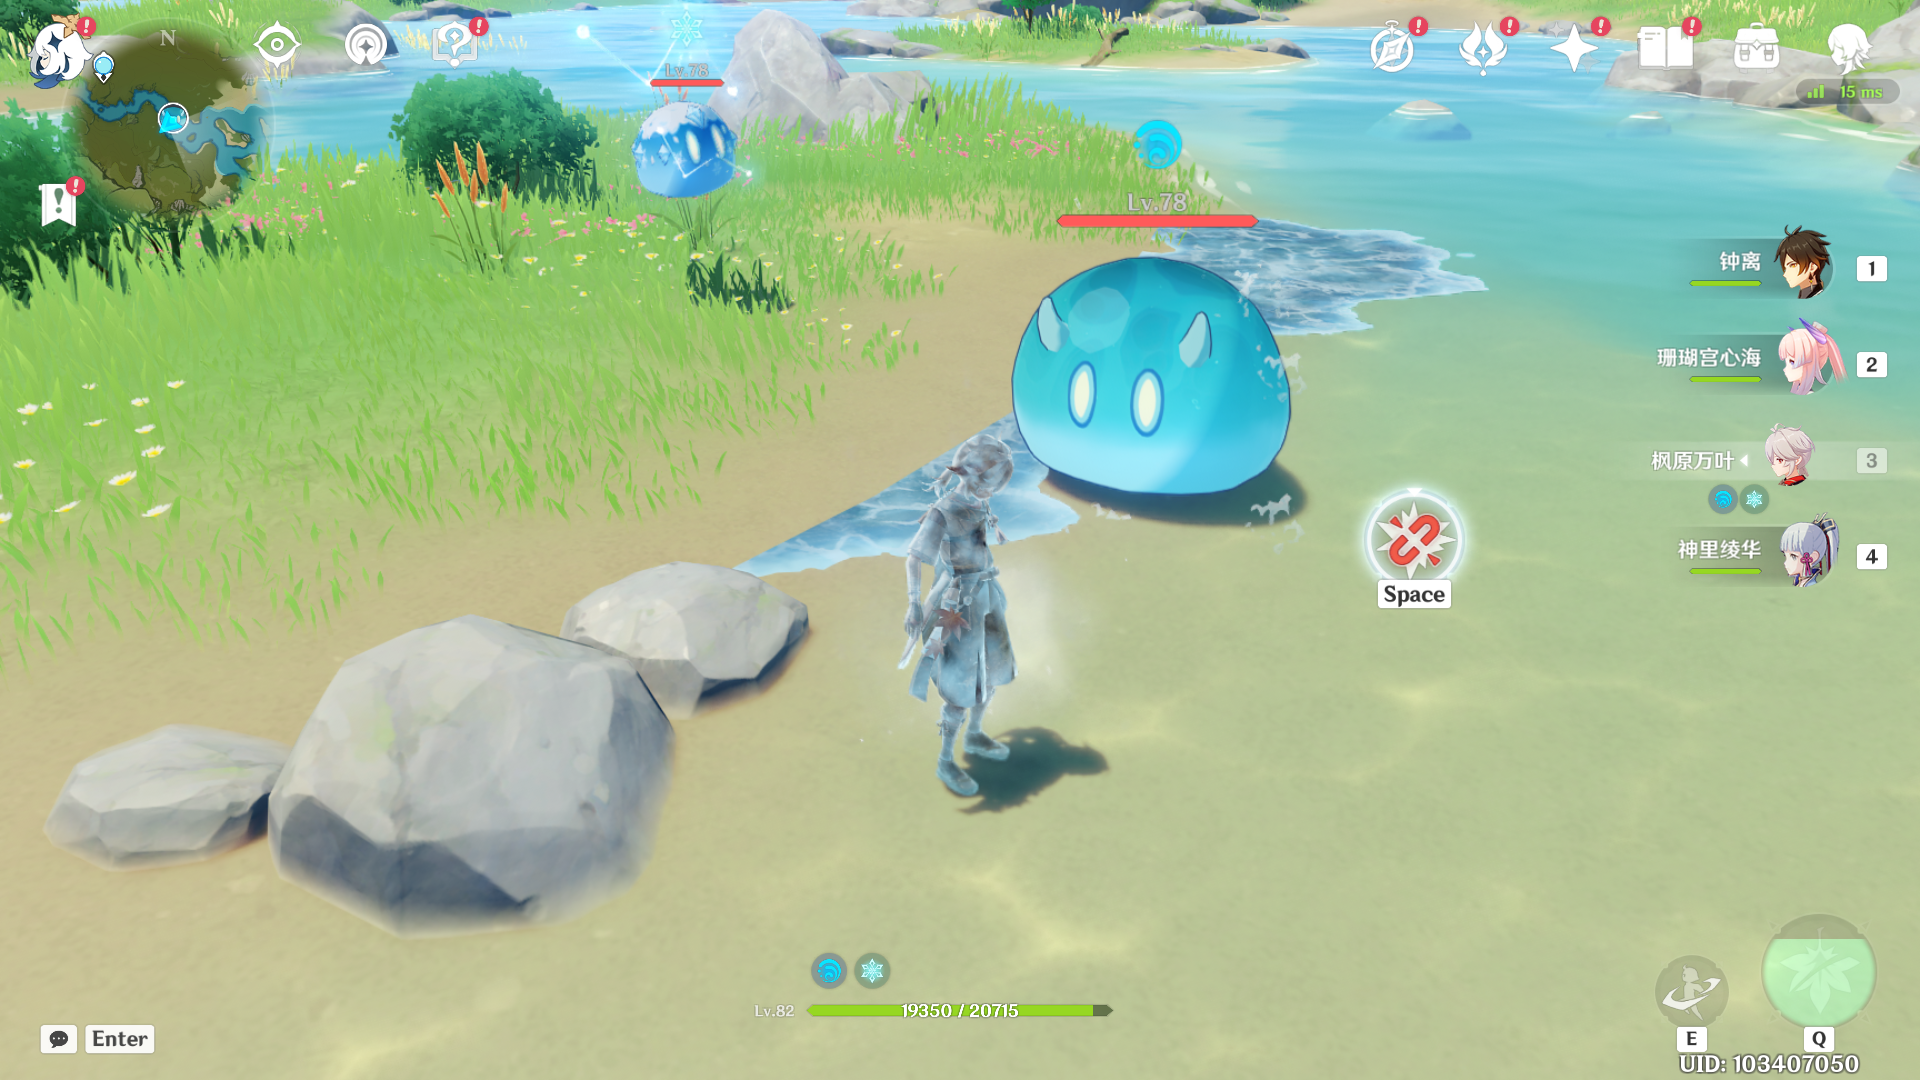ice_slime: (628, 99, 749, 203)
slime: (975, 249, 1309, 502)
